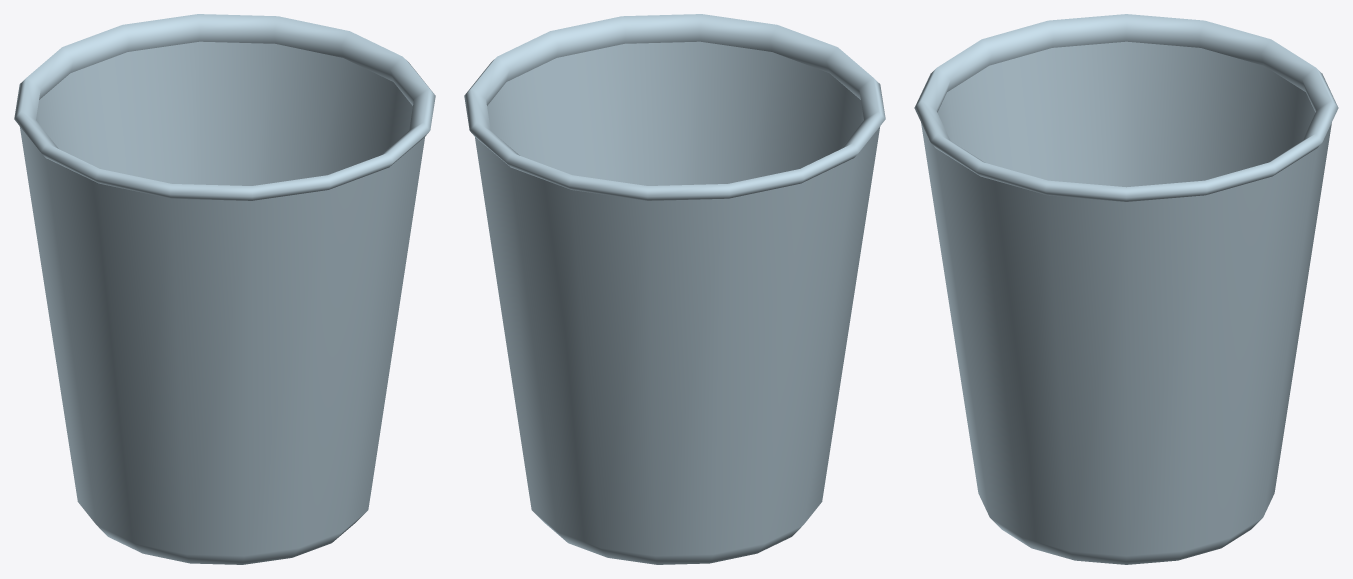
Rendered from Parfait_Plastic.fbx.
3 views of the same model, side by side, from view 1: azimuth 30°, elevation 25°; view 2: azimuth 150°, elevation 25°; view 3: azimuth 270°, elevation 25° (orthographic).
Parts seen in each view (by area): view 1: Parfait_Plastic; view 2: Parfait_Plastic; view 3: Parfait_Plastic.
Part boxes in pixels (x1,y1,x2,y2): Parfait_Plastic: (14, 14, 435, 564); Parfait_Plastic: (464, 14, 885, 564); Parfait_Plastic: (914, 14, 1338, 564).
Size of the model in its own units: 36.64 by 38.83 by 36.64.
